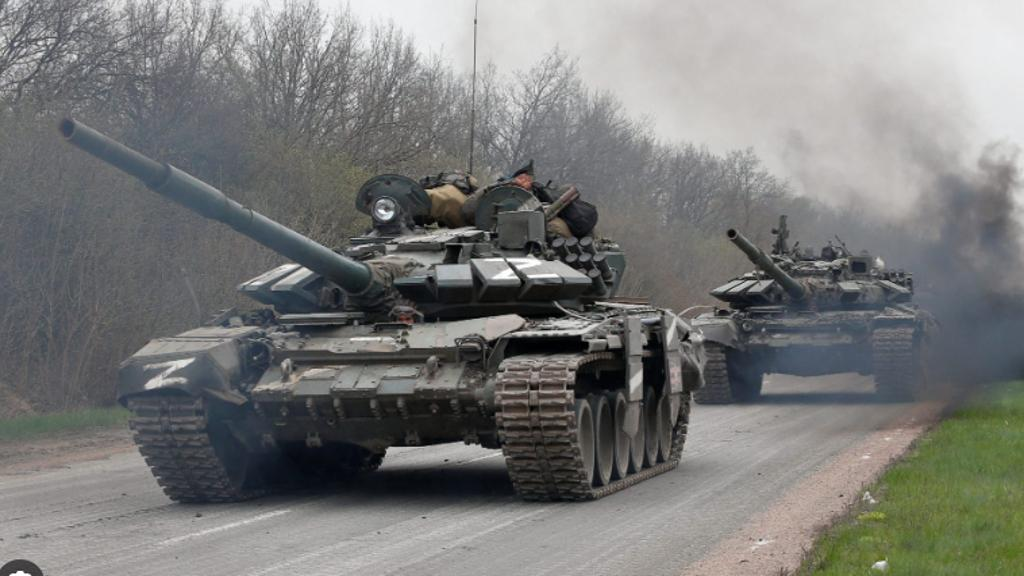TANK: (51, 113, 689, 501), (686, 213, 937, 403)
